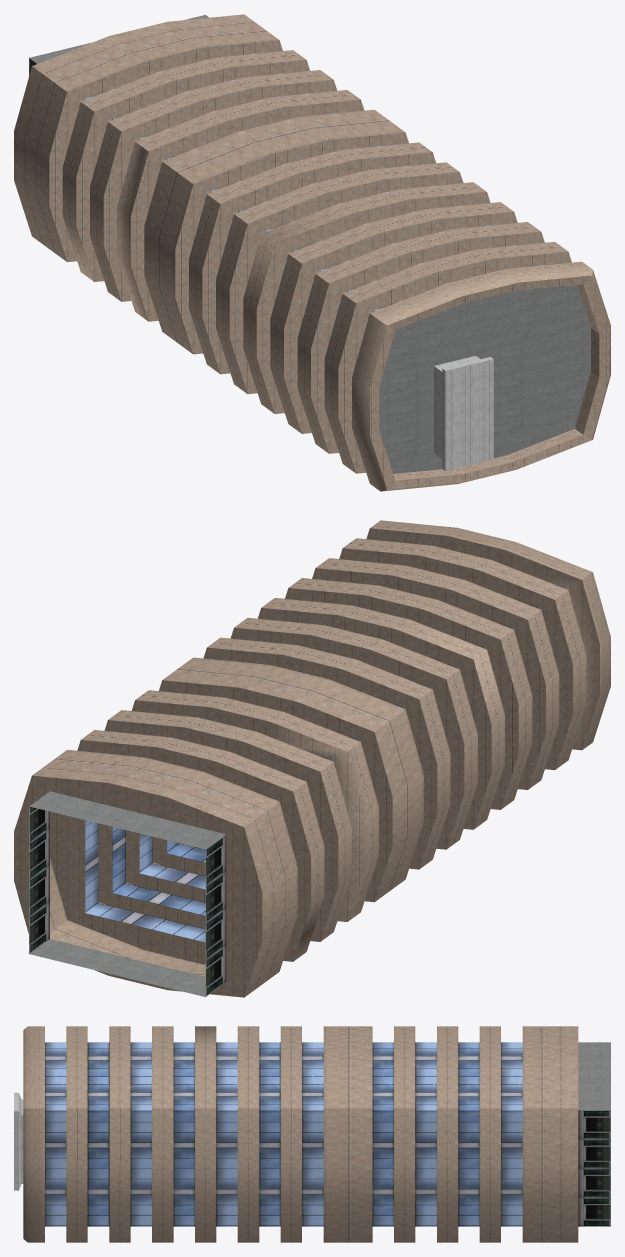
Rendered from skyscraper_windowD_02.obj.
3 views of the same model, one above another, from view 1: azimuth 30°, elevation 25°; view 2: azimuth 150°, elevation 25°; view 3: azimuth 270°, elevation 25° (orthographic). The views are drawn at different scales.
Parts seen in each view (by area): view 1: Object52; view 2: Object52; view 3: Object52.
Part boxes in pixels (x1,y1,x2,y2): Object52: (14, 14, 610, 491); Object52: (14, 520, 610, 997); Object52: (14, 1026, 610, 1242).
Bounding box in the file's own units: 42.23 × 31.34 × 111.
5 materials, 5 textured.
